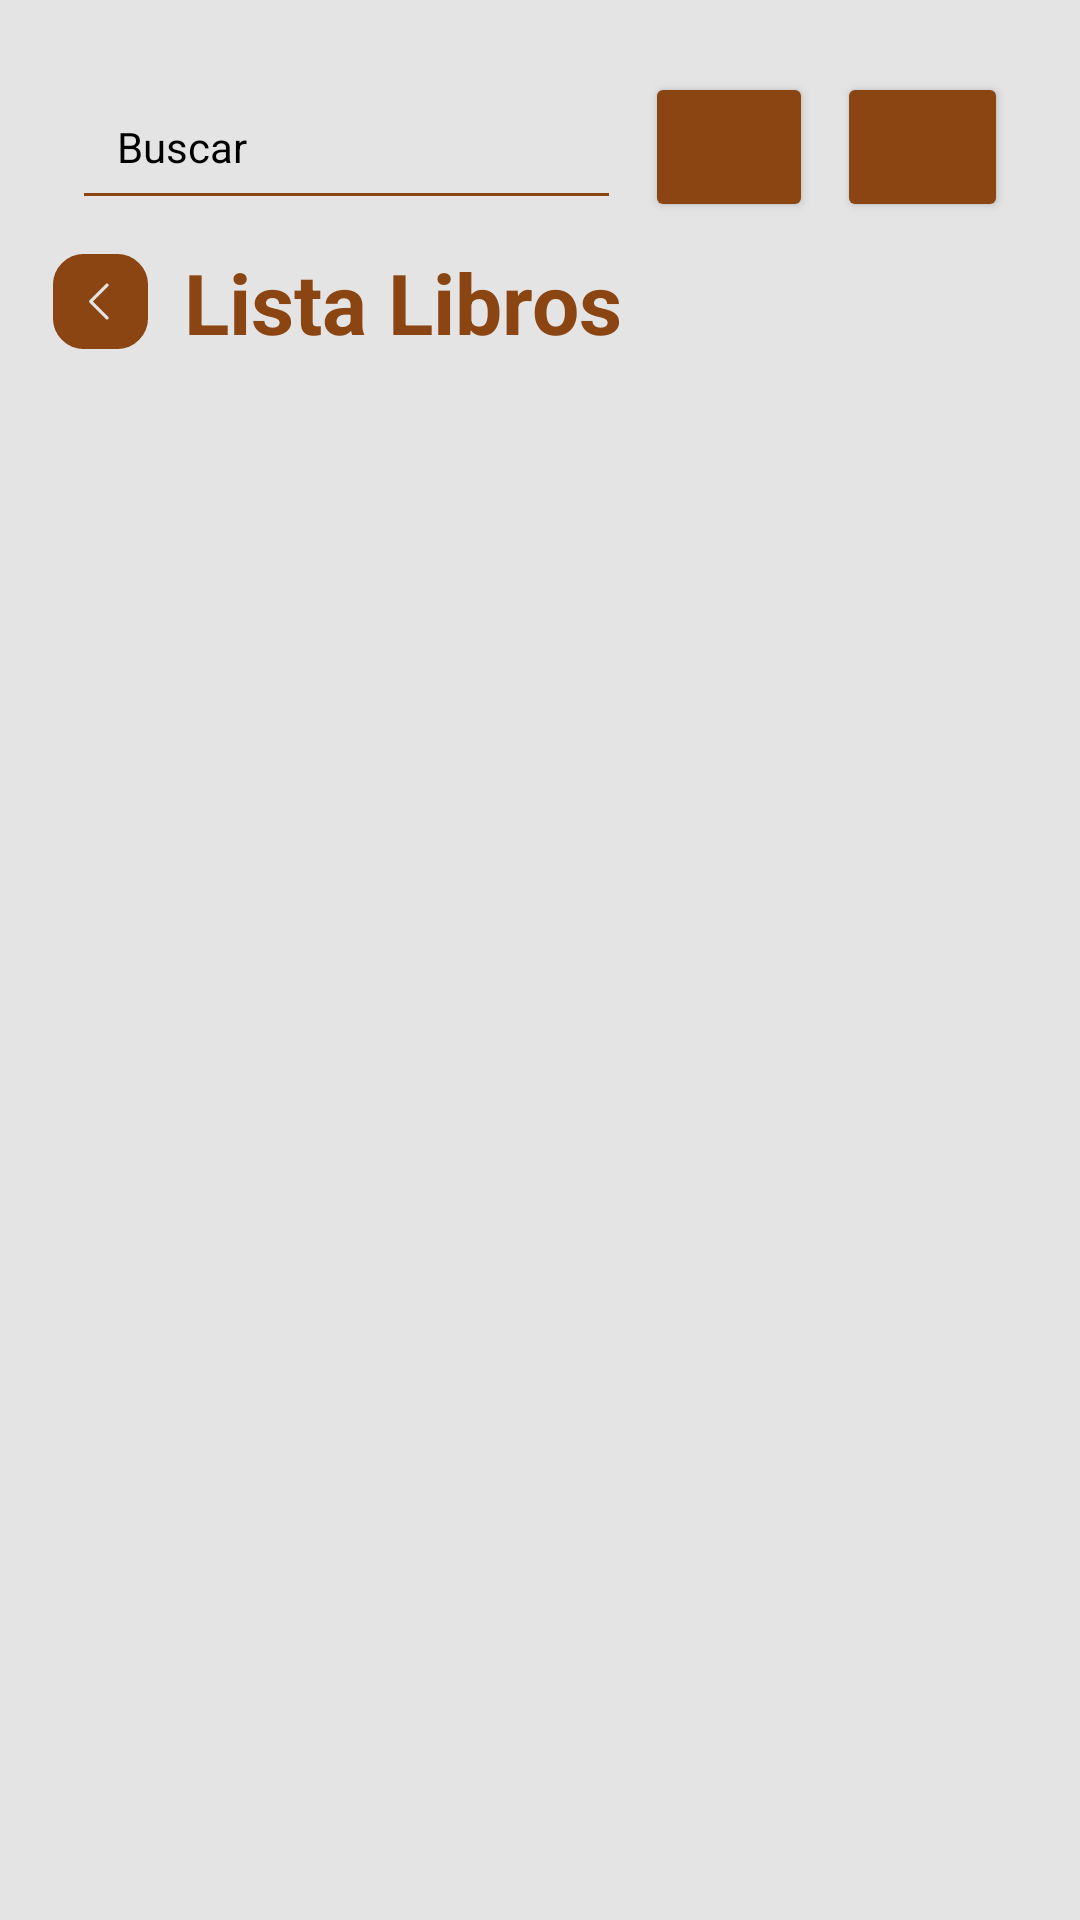

Icons on this 1080w x 1920h Android screen, each with its box as rect(x1, y1, x2, y2):
volver: rect(53, 254, 148, 349)
